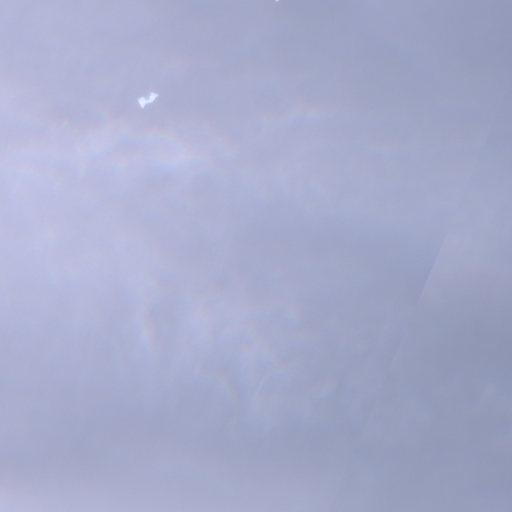Iceberg: (138, 93, 157, 108)
